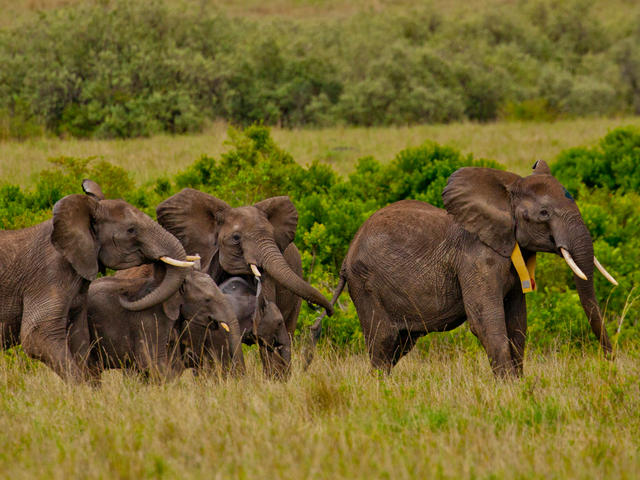elephant: (314, 157, 628, 387), (1, 176, 193, 392), (149, 183, 337, 342), (85, 256, 250, 393), (215, 278, 305, 389)
